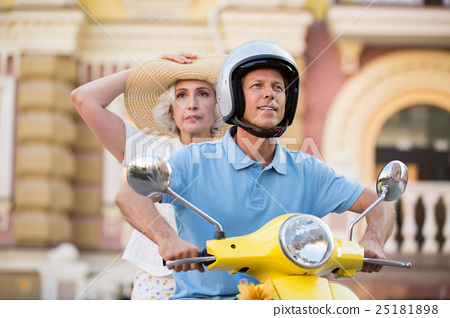helmet: (214, 36, 304, 118)
